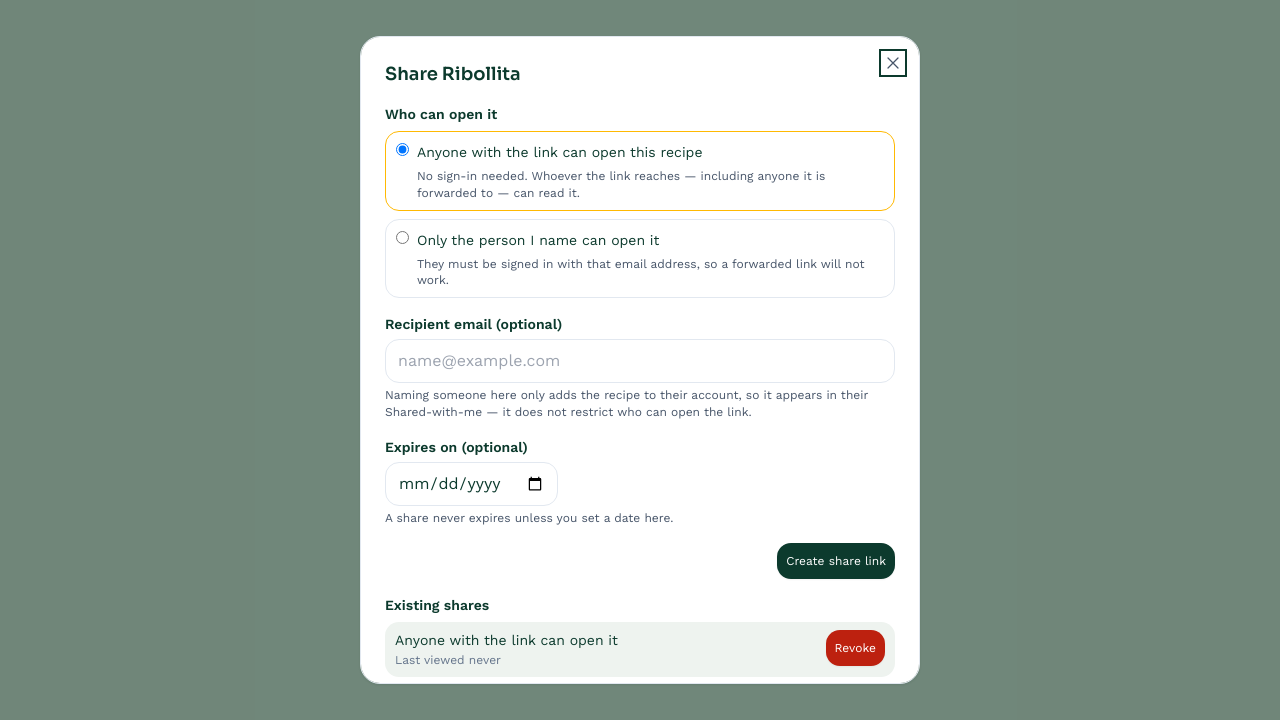
Scenario: revokes a share and refreshes the list
Click the button "Revoke".
click(855, 648)  # box x1=826 y1=630 x2=885 y2=666
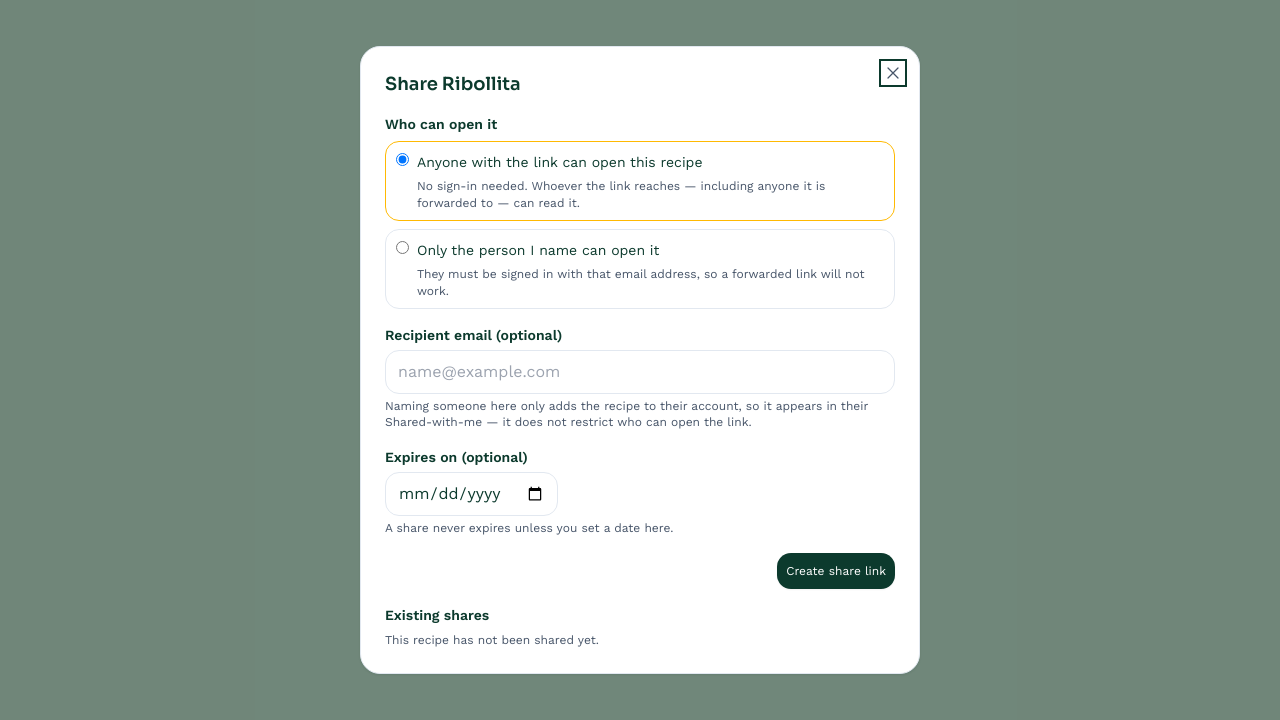
Expected: the button "Revoke" is gone
